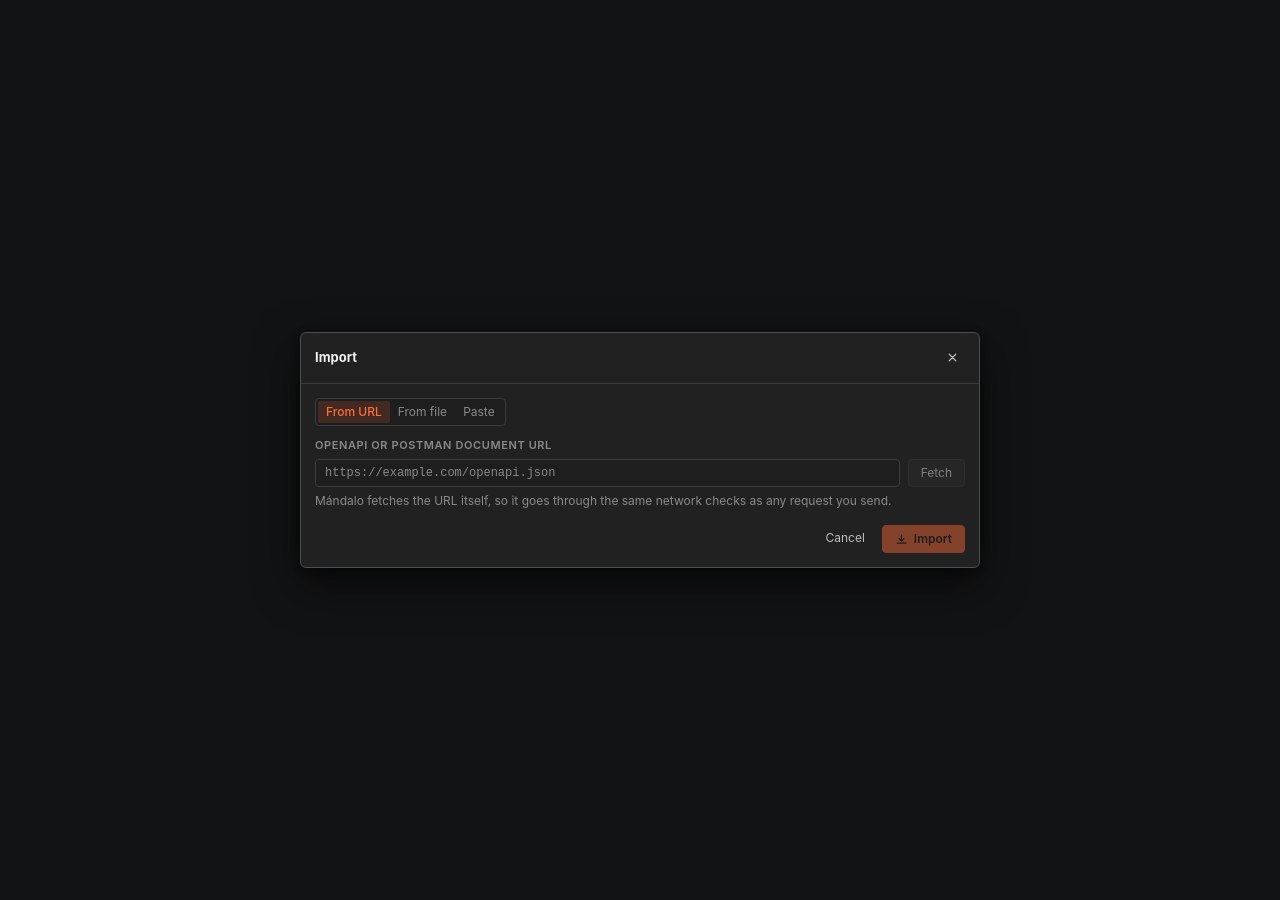
it: ImportDialog › keeps the file picker as one of the ways in
What coordinates should you click on to do the following:
click the button "From file"
I would click on:
 (422, 412)
Its box is 390,401 -> 455,423.
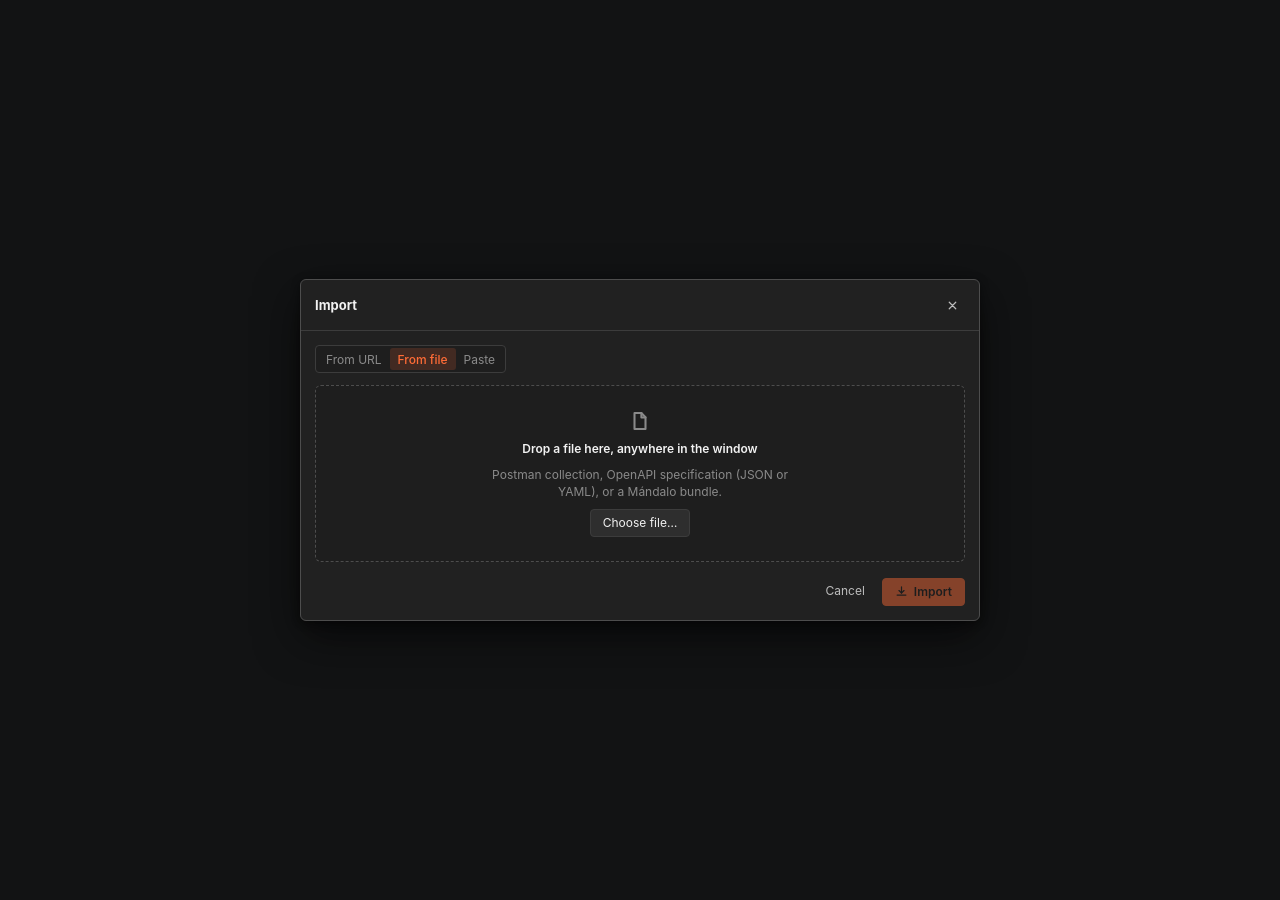
What coordinates should you click on to do the following:
click the button "Choose file…"
I would click on:
 (640, 523)
Its box is 590,509 -> 690,537.
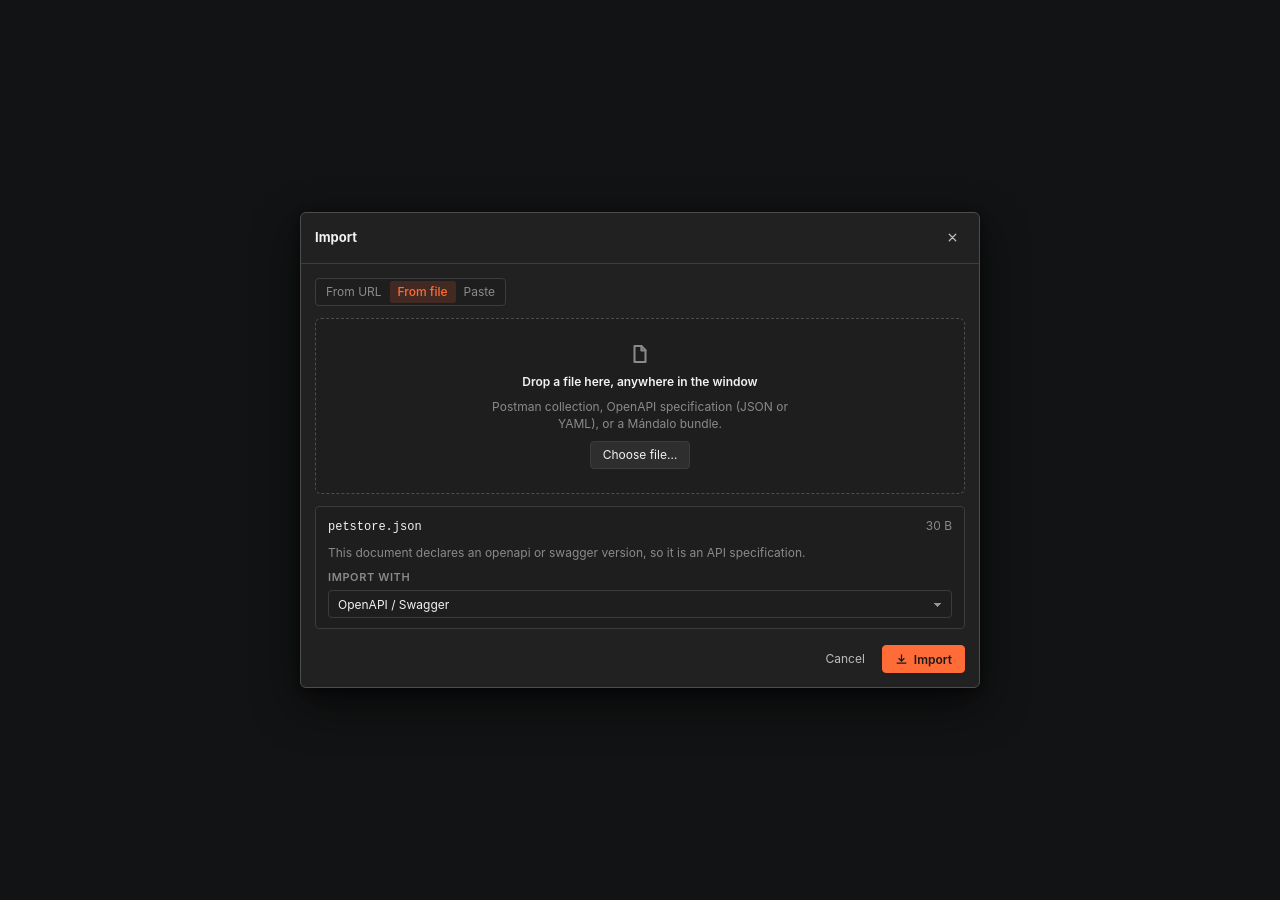
Expected: the text "petstore.json" is shown, 328,519 -> 422,536
